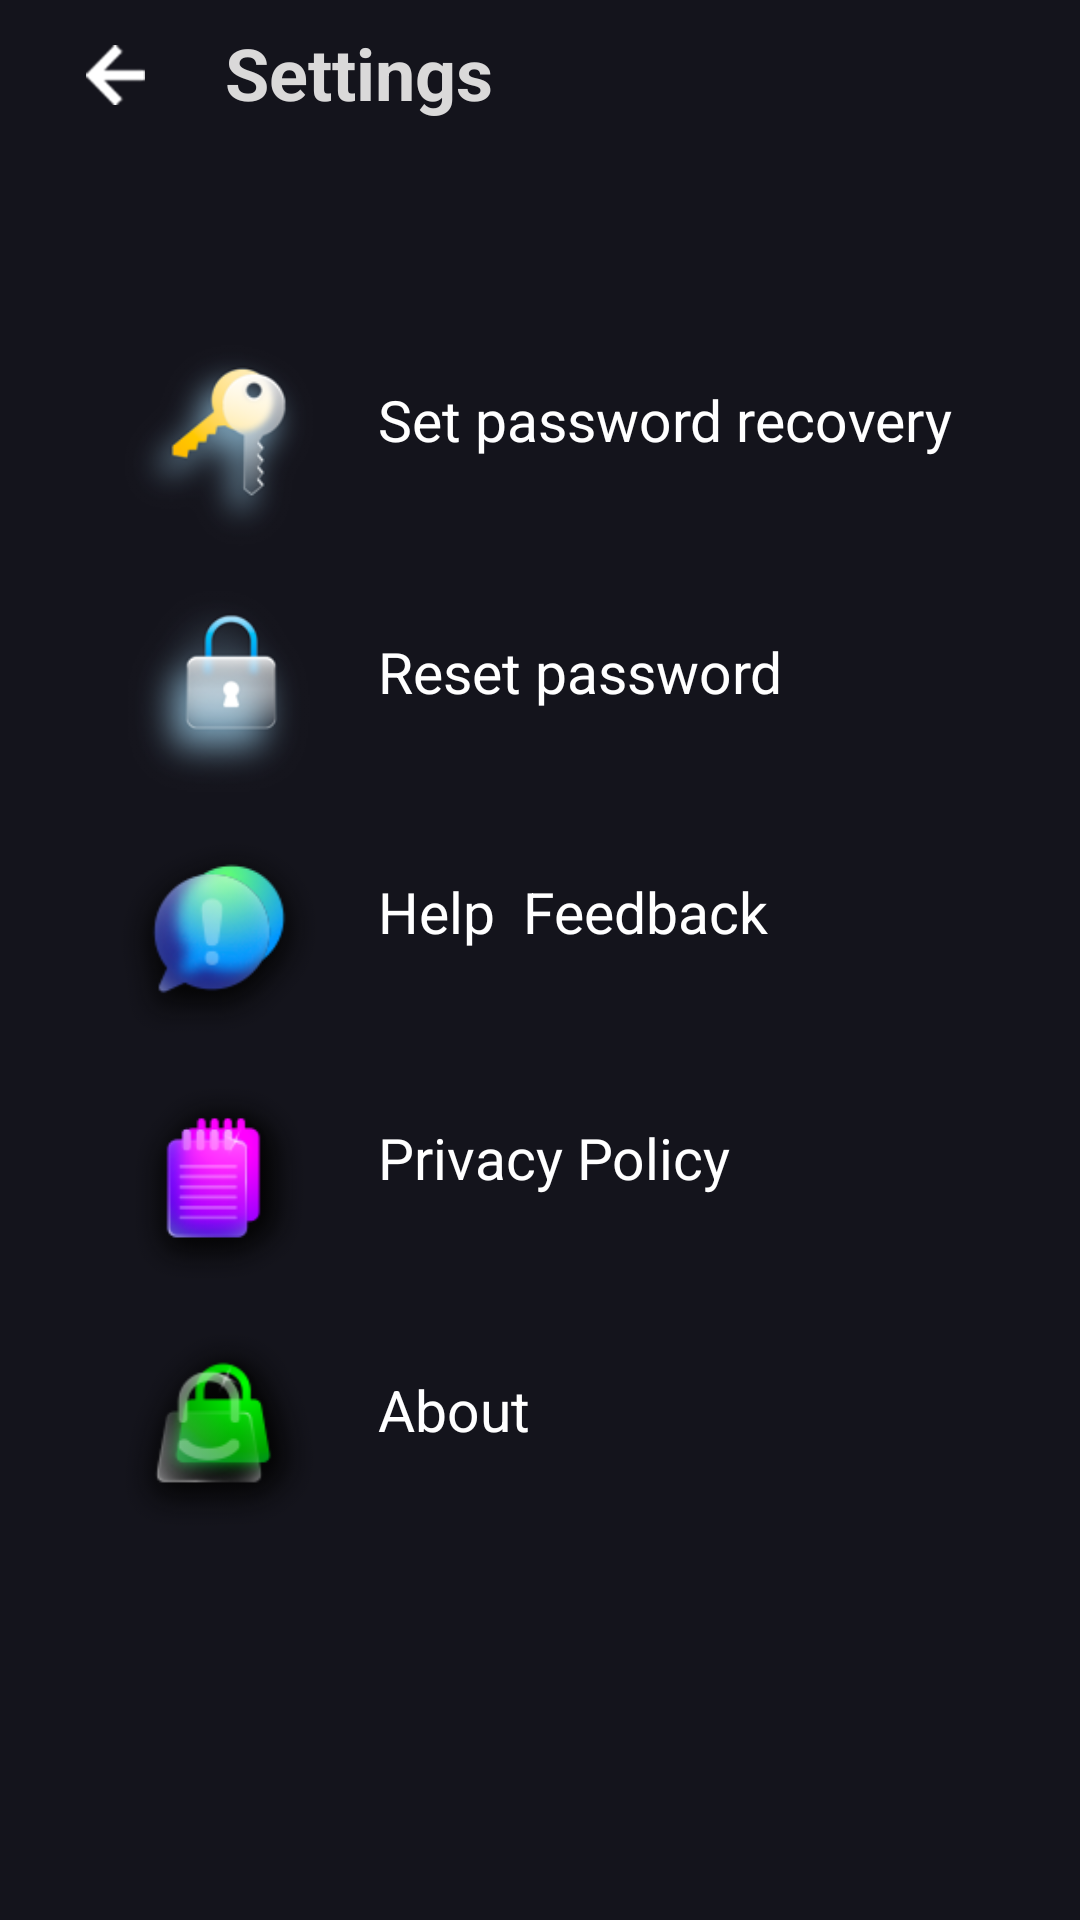

Icons on this 1080 × 1920 Android screen, each with the point to tap as [x,y]:
arrow: [115,75]
restpassword: [218,689]
